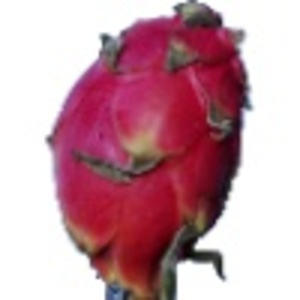pitaia: (47, 1, 256, 300)
